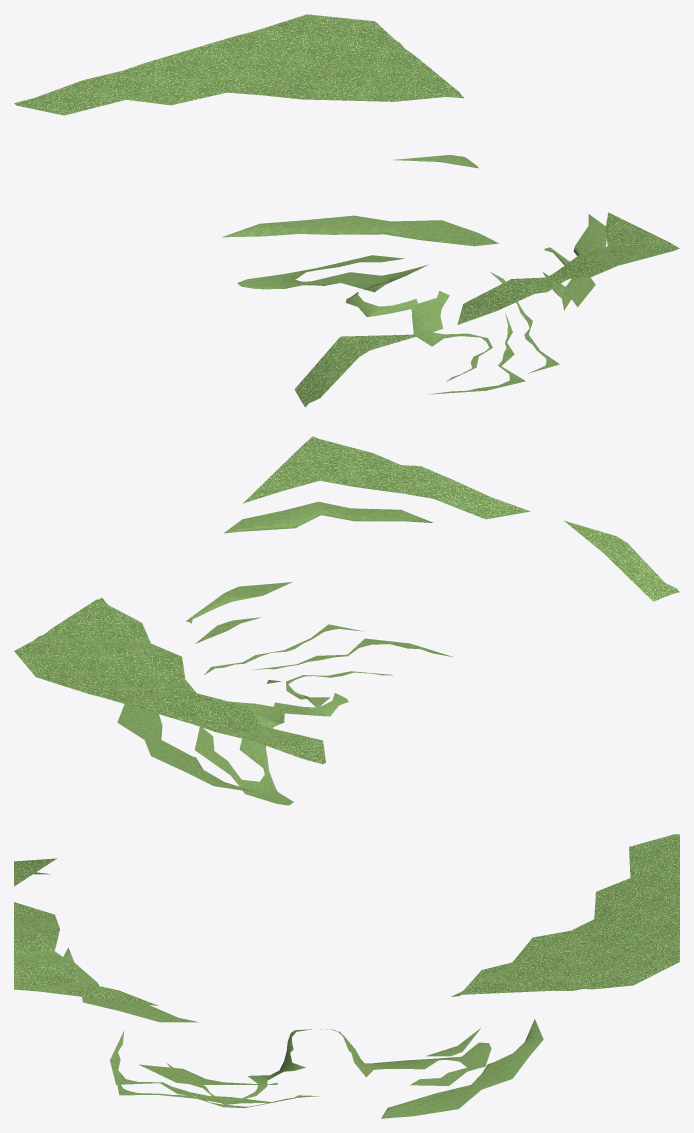
File: kd_connection_town-ground_surface_4_1.glb
3 views of the same model, one above another, from view 1: azimuth 30°, elevation 25°; view 2: azimuth 150°, elevation 25°; view 3: azimuth 270°, elevation 25° (orthographic). The views are drawn at different scales.
Visible parts, largest first — view 1: kd_connection_town-ground_surface_4_1; view 2: kd_connection_town-ground_surface_4_1; view 3: kd_connection_town-ground_surface_4_1.
Part boxes in pixels (box(x1,y1,x2,y2)): kd_connection_town-ground_surface_4_1: box(14, 14, 679, 407); kd_connection_town-ground_surface_4_1: box(14, 436, 679, 805); kd_connection_town-ground_surface_4_1: box(14, 834, 679, 1118).
Size of the model in its own units: 140 by 57.79 by 212.
1 material, 1 textured.
